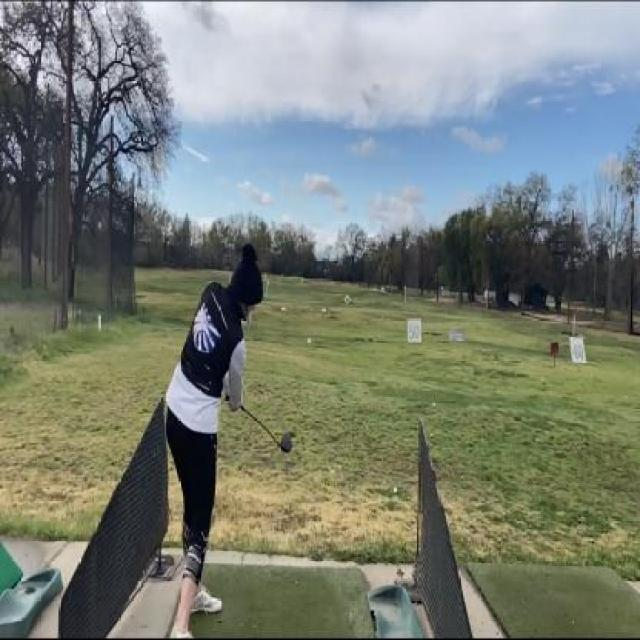club head: (270, 431, 293, 455)
